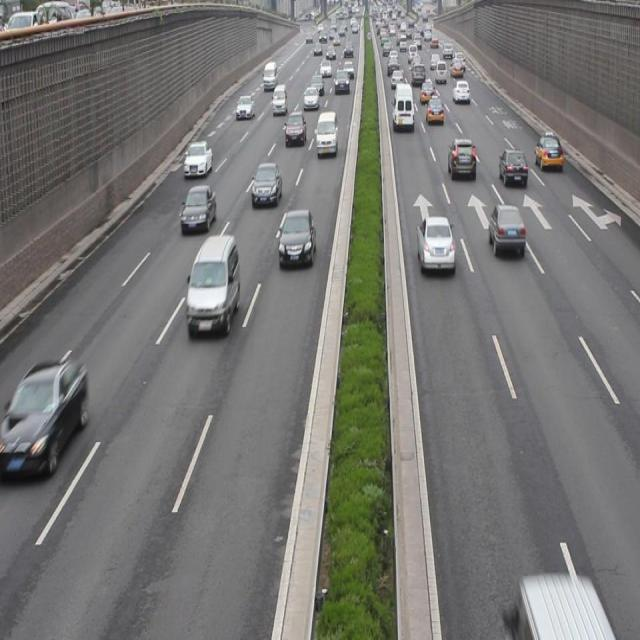car: (8, 360, 86, 478), (184, 231, 238, 338), (416, 213, 455, 278), (278, 209, 315, 269), (180, 182, 216, 236), (488, 203, 522, 258), (251, 161, 282, 211), (446, 136, 476, 180), (182, 141, 213, 181), (534, 134, 560, 172), (499, 150, 526, 185), (284, 110, 304, 144)
truck: (315, 109, 336, 156), (393, 84, 413, 132)
